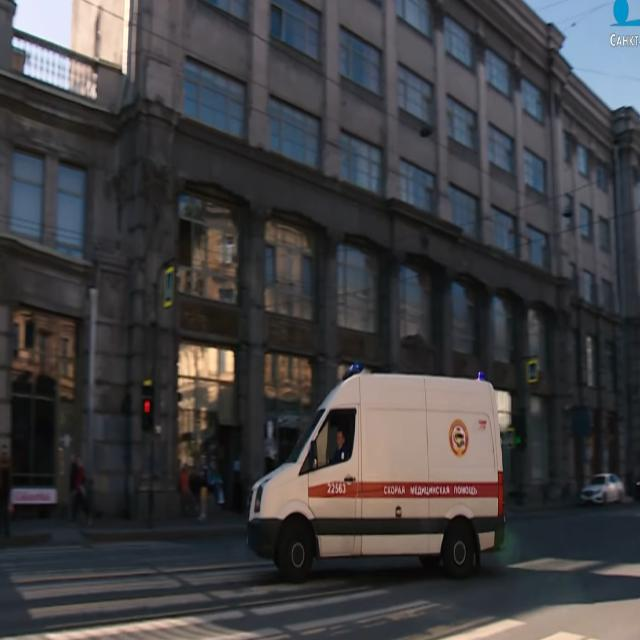ambulance: (245, 365, 506, 584)
non emergency car: (580, 470, 625, 510)
